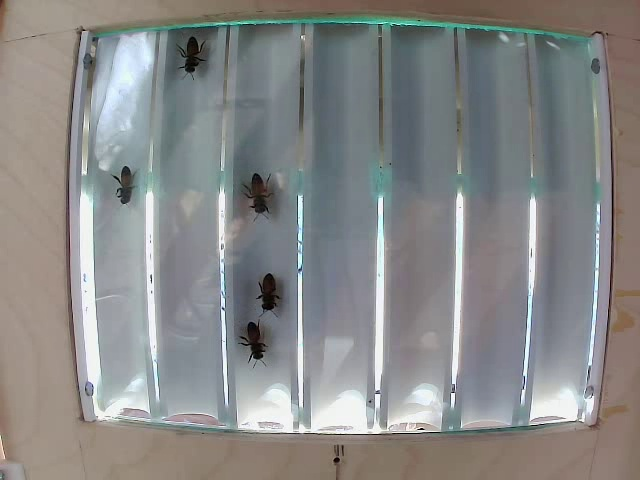bee: (237, 161, 277, 220), (104, 158, 142, 216), (233, 310, 275, 360), (258, 273, 288, 318), (172, 39, 201, 79)
